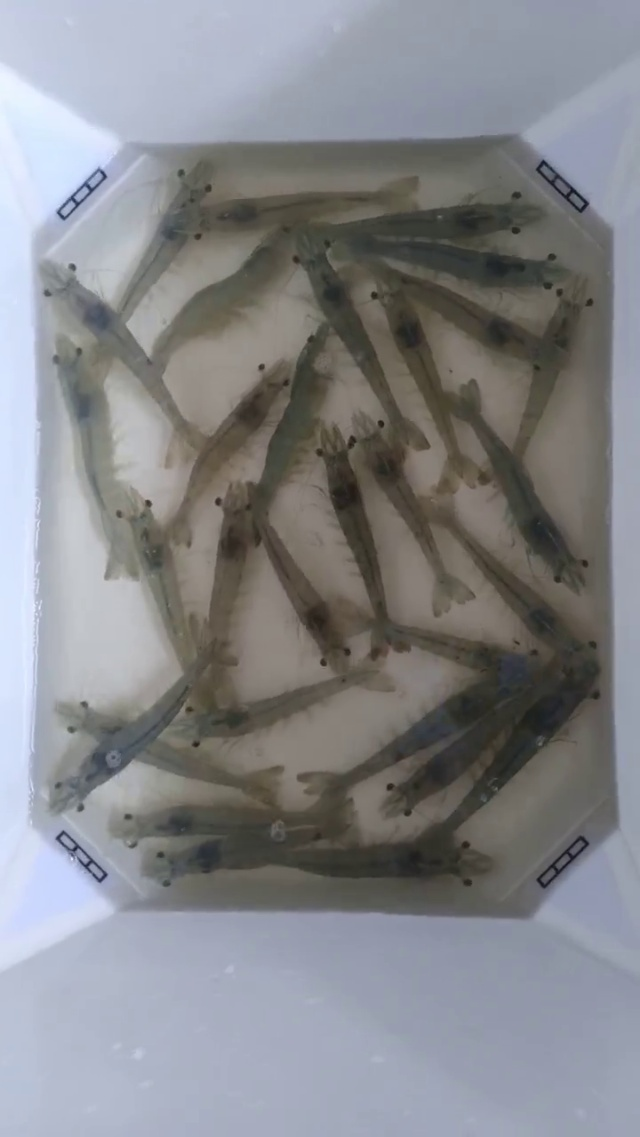shrimp: (544, 373, 639, 734), (482, 555, 599, 733), (440, 137, 574, 288), (76, 409, 175, 611), (139, 760, 273, 908), (584, 124, 639, 483), (331, 672, 448, 837), (50, 675, 189, 811), (164, 381, 275, 548), (268, 544, 375, 703), (103, 481, 198, 658), (40, 260, 161, 397), (66, 754, 175, 905), (406, 786, 527, 916), (589, 480, 639, 791), (39, 259, 144, 406), (33, 644, 122, 813), (120, 160, 212, 321), (341, 327, 429, 495), (122, 160, 213, 308), (179, 635, 278, 771), (268, 757, 356, 908), (293, 226, 375, 380), (129, 638, 221, 758), (108, 805, 213, 907), (385, 559, 482, 665), (509, 223, 589, 348), (198, 358, 293, 461), (347, 209, 453, 299), (208, 480, 260, 638), (46, 167, 106, 293), (315, 415, 371, 549), (55, 108, 115, 219), (347, 561, 411, 665), (419, 443, 487, 524), (53, 801, 107, 883)
